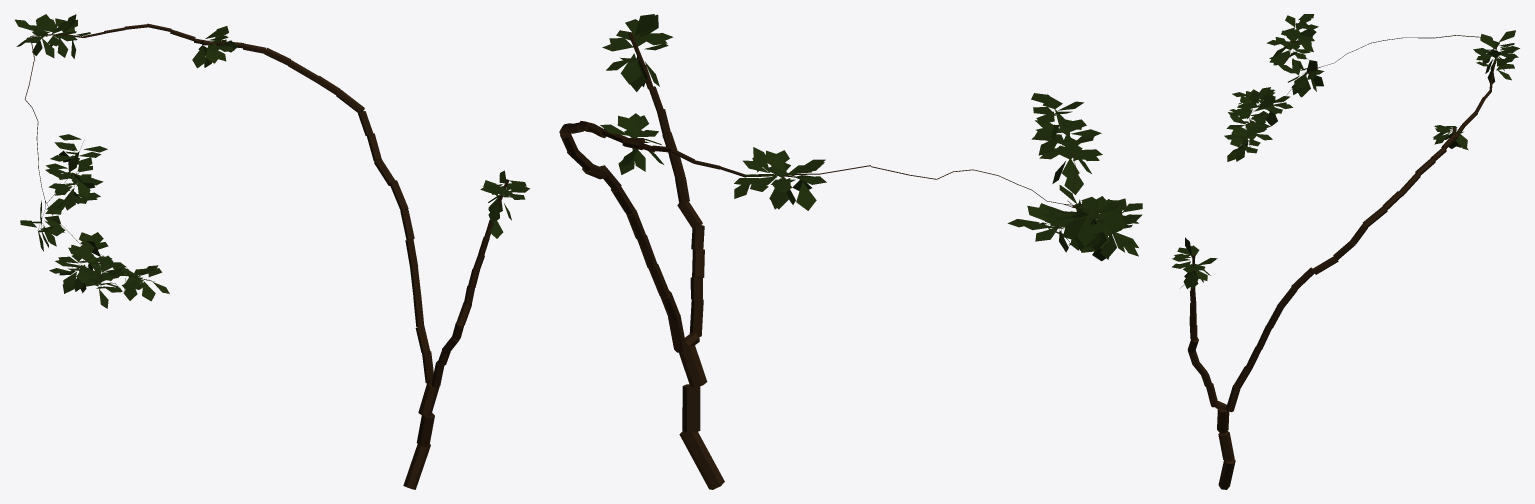
File: 2022_tree_445.obj
The picture shows the model from 3 angles, left to right: view 1: azimuth 30°, elevation 25°; view 2: azimuth 150°, elevation 25°; view 3: azimuth 270°, elevation 25°; orthographic projection. The views are drawn at different scales.
Parts seen in each view (by area): view 1: Leaves, TrunkAndBranches; view 2: Leaves, TrunkAndBranches; view 3: Leaves, TrunkAndBranches.
Part boxes in pixels (x1,y1,x2,y2): Leaves: (15,14,529,308); TrunkAndBranches: (24,23,509,489); Leaves: (600,14,1142,261); TrunkAndBranches: (559,32,1123,489); Leaves: (1172,14,1519,288); TrunkAndBranches: (1187,23,1497,489).
Bounding box in the file's own units: 5.97 × 5.33 × 4.68.
